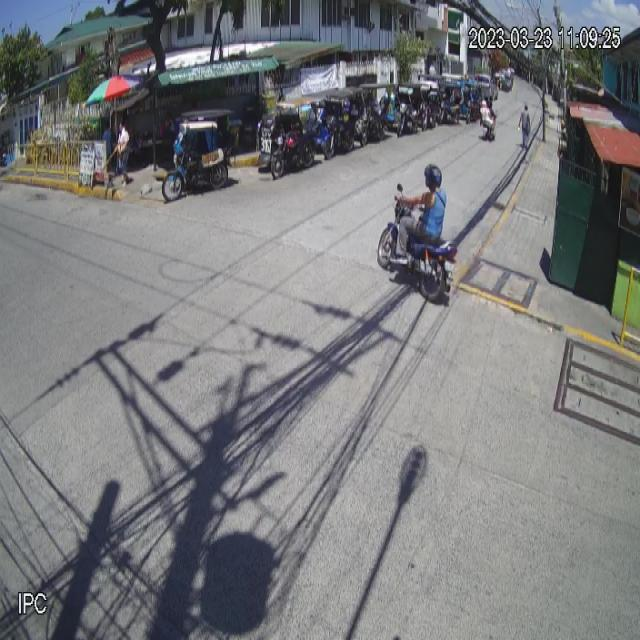Motorcycle: (376, 182, 458, 304)
